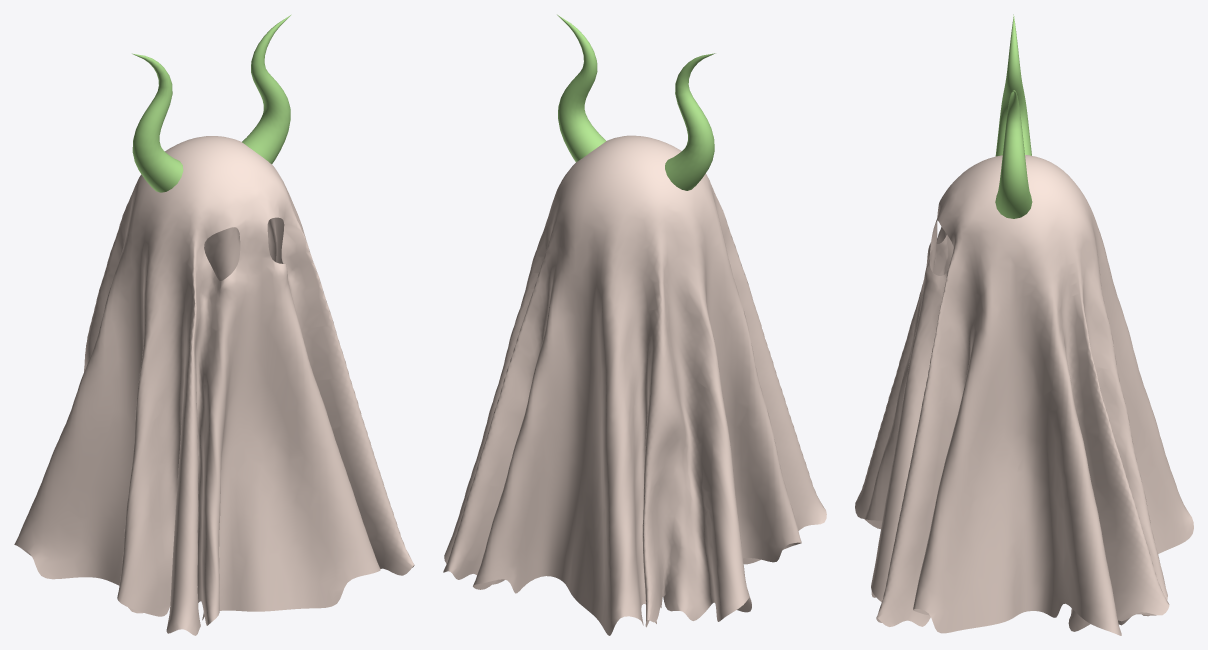
The model's file is GhostMaleficent.fbx.
The picture shows the model from 3 angles, left to right: view 1: azimuth 30°, elevation 25°; view 2: azimuth 150°, elevation 25°; view 3: azimuth 270°, elevation 25°; orthographic projection. The views are drawn at different scales.
Parts seen in each view (by area): view 1: Plane.005; view 2: Plane.005; view 3: Plane.005.
Part boxes in pixels (x1,y1,x2,y2): Plane.005: (14,14,414,635); Plane.005: (443,14,826,635); Plane.005: (855,14,1193,635).
Bounding box in the file's own units: 99.43 × 175 × 101.
